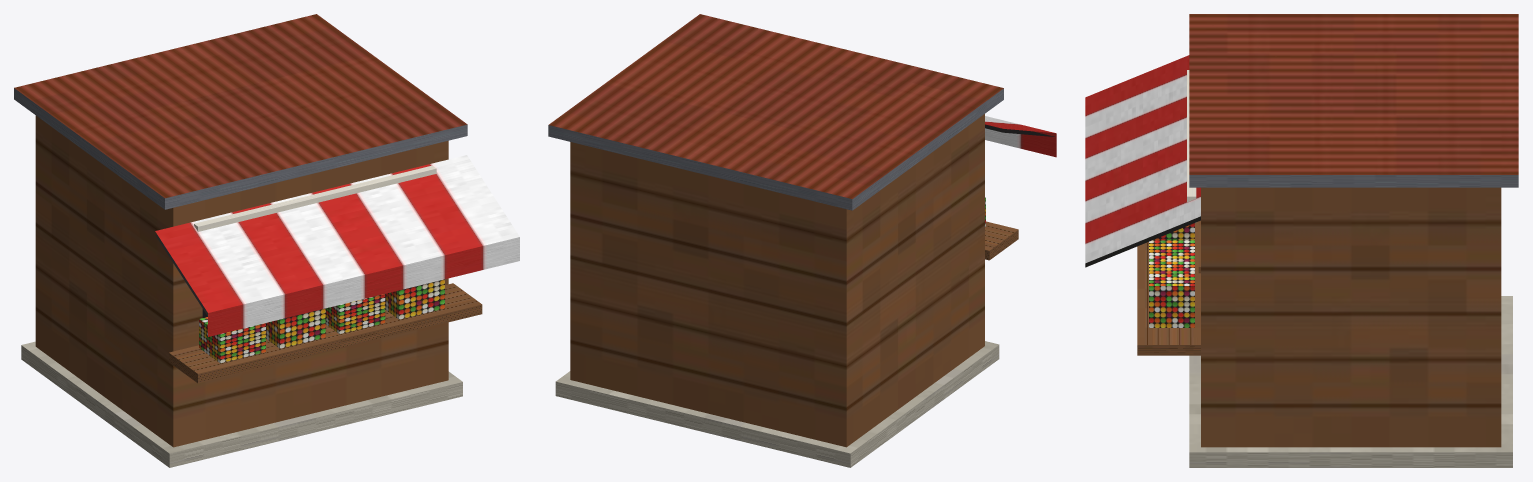
The model's file is kiosk-red-far.glb.
The picture shows the model from 3 angles, left to right: view 1: azimuth 30°, elevation 25°; view 2: azimuth 150°, elevation 25°; view 3: azimuth 270°, elevation 25°; orthographic projection. The views are drawn at different scales.
Visible parts, largest first — view 1: kiosk-red; view 2: kiosk-red; view 3: kiosk-red.
Part boxes in pixels (bbox=[...]): kiosk-red: bbox=[14, 14, 519, 467]; kiosk-red: bbox=[548, 14, 1056, 467]; kiosk-red: bbox=[1085, 14, 1518, 467].
Size of the model in its own units: 3.4 by 2.82 by 3.75.
1 material, 1 textured.
